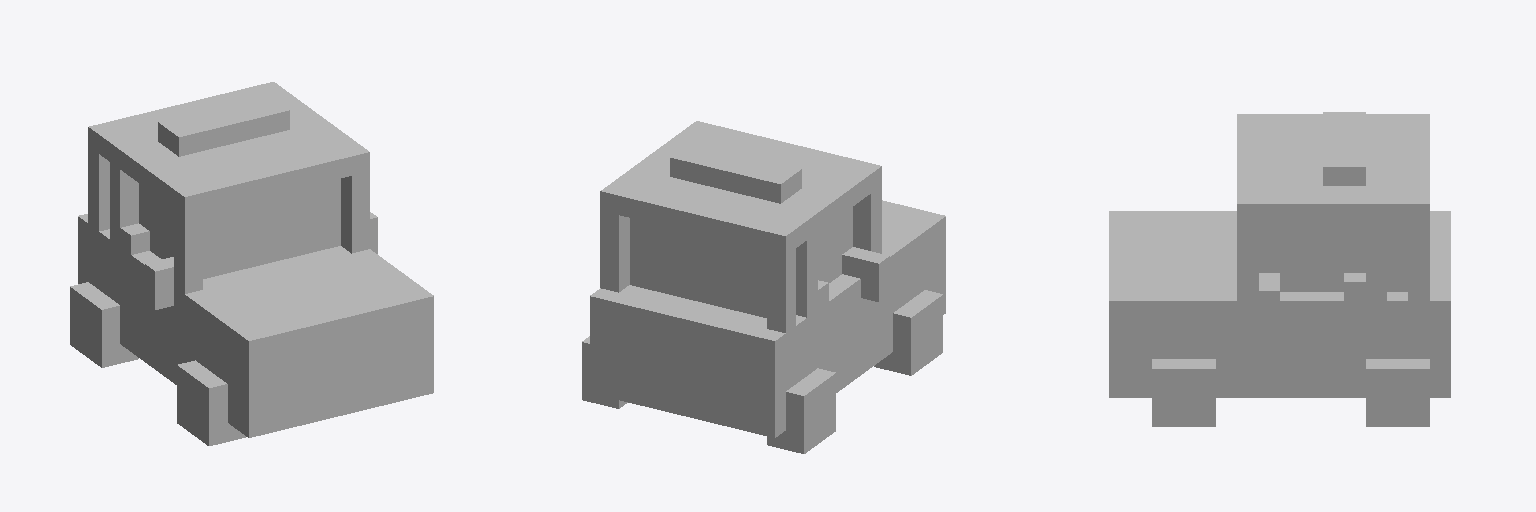
File: Voxel Design (Cars)-7.obj
3 views of the same model, side by side, from view 1: azimuth 30°, elevation 25°; view 2: azimuth 150°, elevation 25°; view 3: azimuth 270°, elevation 25° (orthographic).
Parts seen in each view (by area): view 1: object 1; view 2: object 1; view 3: object 1.
Boxes of the visible parts, x1,y1,x2,y2 form: object 1: [70, 82, 433, 445]; object 1: [582, 121, 945, 453]; object 1: [1109, 112, 1450, 426].
Size of the model in its own units: 1.2 by 1.2 by 1.6.